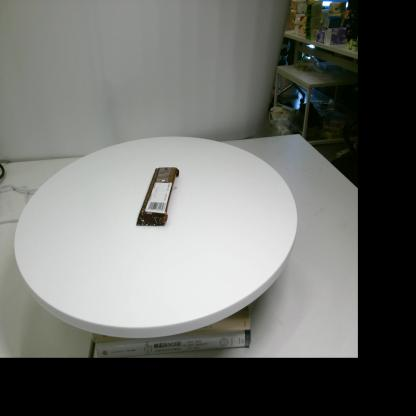Chocolate: (136, 167, 180, 226)
